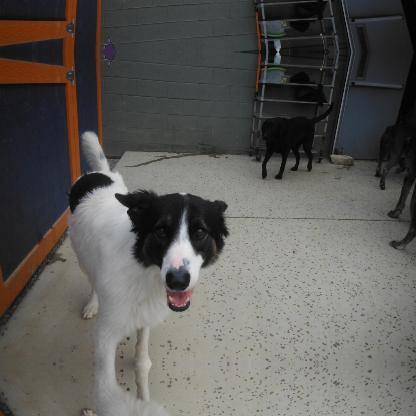Dog: (65, 131, 230, 363), (64, 365, 230, 415), (260, 102, 334, 180), (385, 136, 415, 250), (373, 122, 415, 190)
